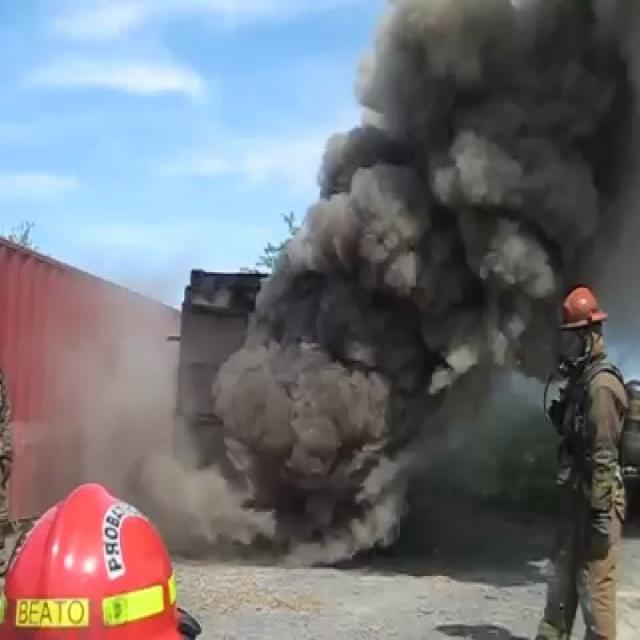Smoke: (238, 39, 632, 536)
